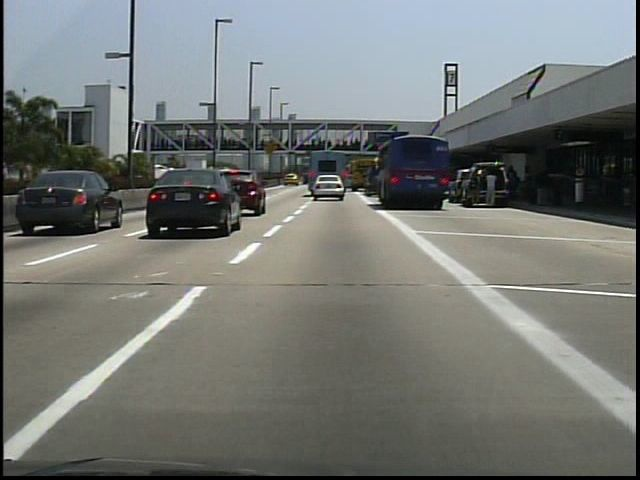person: (482, 166, 499, 211), (533, 165, 547, 207)
